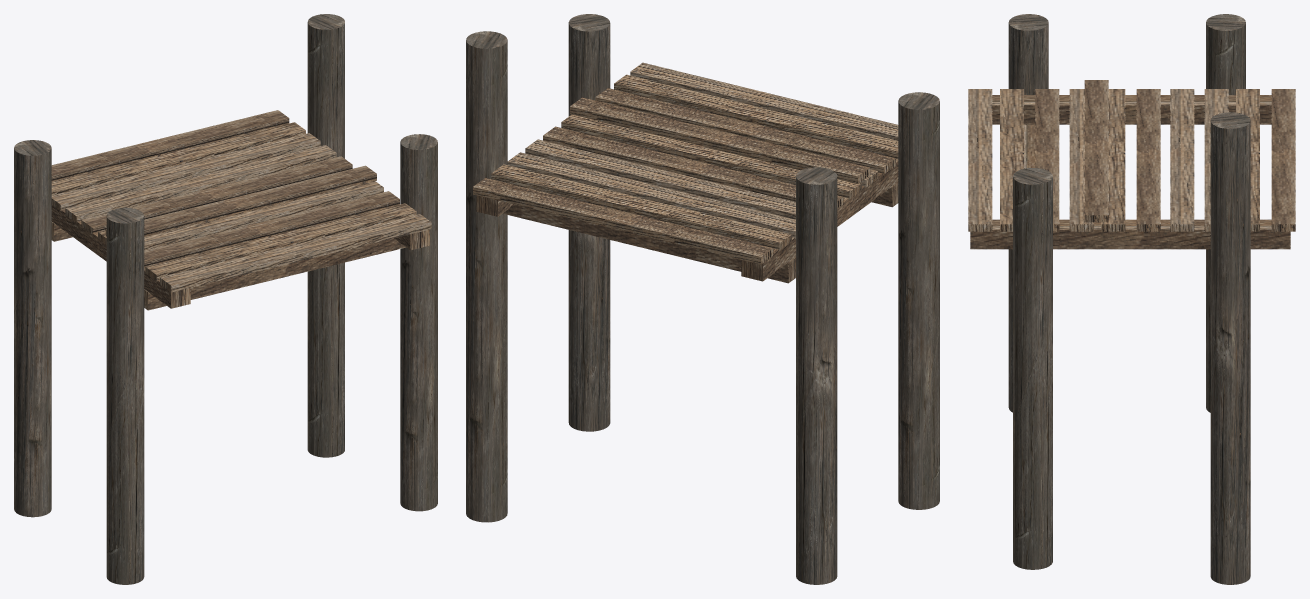
File: plataforma madera.fbx
The picture shows the model from 3 angles, left to right: view 1: azimuth 30°, elevation 25°; view 2: azimuth 150°, elevation 25°; view 3: azimuth 270°, elevation 25°; orthographic projection. The views are drawn at different scales.
Parts seen in each view (by area): view 1: Plataformas, COLUMNA 5, COLUMNA 2, Cube.002; view 2: Plataformas, COLUMNA 2, COLUMNA 5, Cube.002; view 3: Plataformas, COLUMNA 2, COLUMNA 5, Cube.002.
Boxes of the visible parts, x1=… form: Plataformas: x1=51, y1=110, x2=431, y2=308; COLUMNA 5: x1=106, y1=134, x2=437, y2=584; COLUMNA 2: x1=14, y1=14, x2=344, y2=517; Cube.002: x1=105, y1=165, x2=376, y2=237; Plataformas: x1=473, y1=62, x2=898, y2=281; COLUMNA 2: x1=466, y1=31, x2=837, y2=584; COLUMNA 5: x1=568, y1=14, x2=939, y2=509; Cube.002: x1=570, y1=97, x2=870, y2=183; Plataformas: x1=968, y1=89, x2=1295, y2=249; COLUMNA 2: x1=1206, y1=14, x2=1250, y2=584; COLUMNA 5: x1=1008, y1=14, x2=1052, y2=569; Cube.002: x1=1084, y1=80, x2=1108, y2=222.
Size of the model in its own units: 505 by 629 by 409.
Materials: 18 (18 with a texture image).
